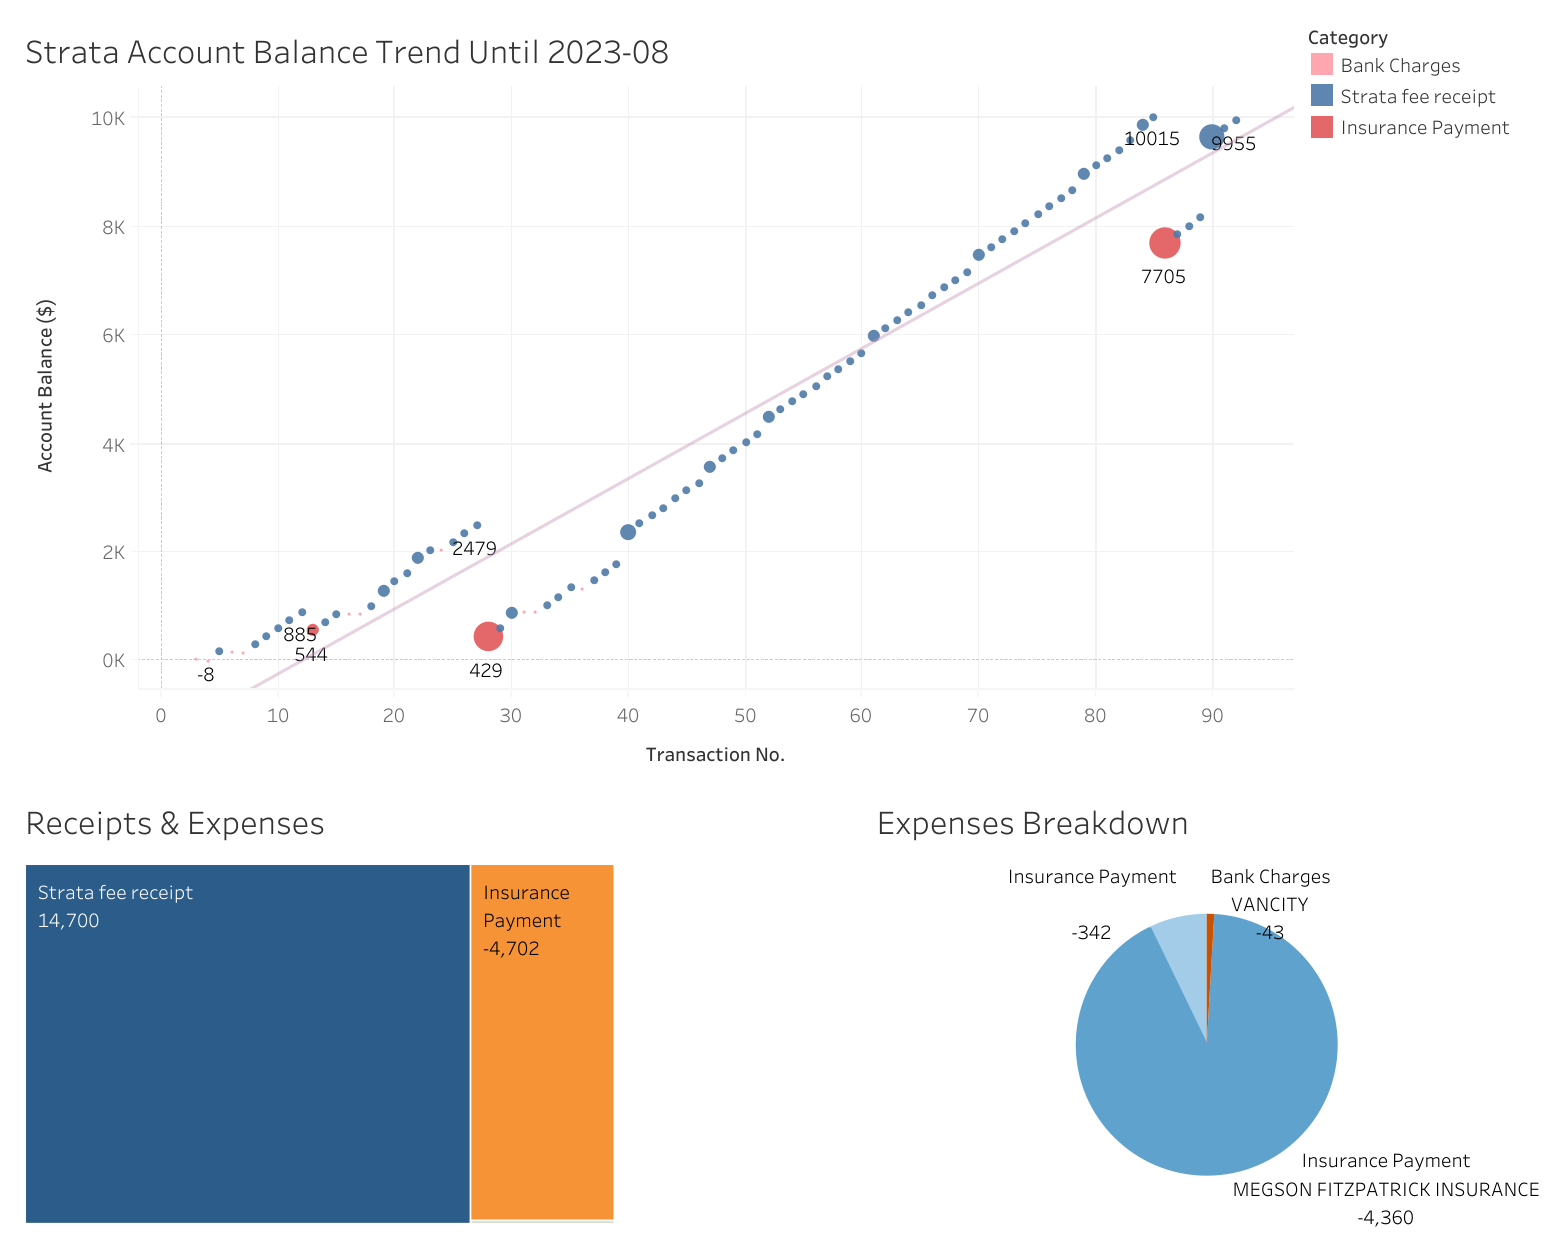

The page's visual inventory and layout, read from the dashboard file:
{"tool":"tableau","page":{"name":"Overall","canvas":[1000,800],"ordinal":1},"visuals":[{"type":"worksheet","title":"Balance Trend","mark":"Circle","rows":["balance"],"cols":["no."],"box":[8,8,824,494]},{"type":"legend","title":"Balance Trend","param":"[federated.01bzqjo0fn7cqn1ctagy61b2375k].[none:category:nk]","box":[832,8,160,87]},{"type":"legend","title":"Receipts & Expenses","param":"[federated.01bzqjo0fn7cqn1ctagy61b2375k].[usr:Calculation_587790177754365987:qk]","box":[832,95,160,22]},{"type":"worksheet","title":"Receipts & Expenses","mark":"Automatic","box":[8,502,545,290]},{"type":"worksheet","title":"Expenses Breakdown","mark":"Pie","box":[553,502,439,290]}]}

Visuals, with their boxes in screenshot pixels (x1, y1, x2, y2), scaled from the page's 1000x800 canvas onto the 1561x1248 screenshot:
"Balance Trend" worksheet (Circle marks): <bbox>12, 12, 1299, 783</bbox>
"Balance Trend" legend: <bbox>1299, 12, 1549, 148</bbox>
"Receipts & Expenses" legend: <bbox>1299, 148, 1549, 183</bbox>
"Receipts & Expenses" worksheet: <bbox>12, 783, 863, 1236</bbox>
"Expenses Breakdown" worksheet (Pie marks): <bbox>863, 783, 1549, 1236</bbox>
